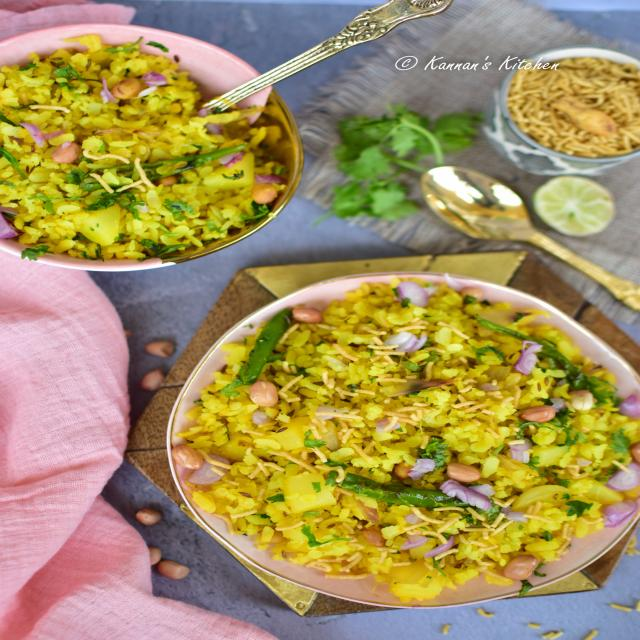POHA: (175, 281, 637, 597), (0, 41, 283, 258)
